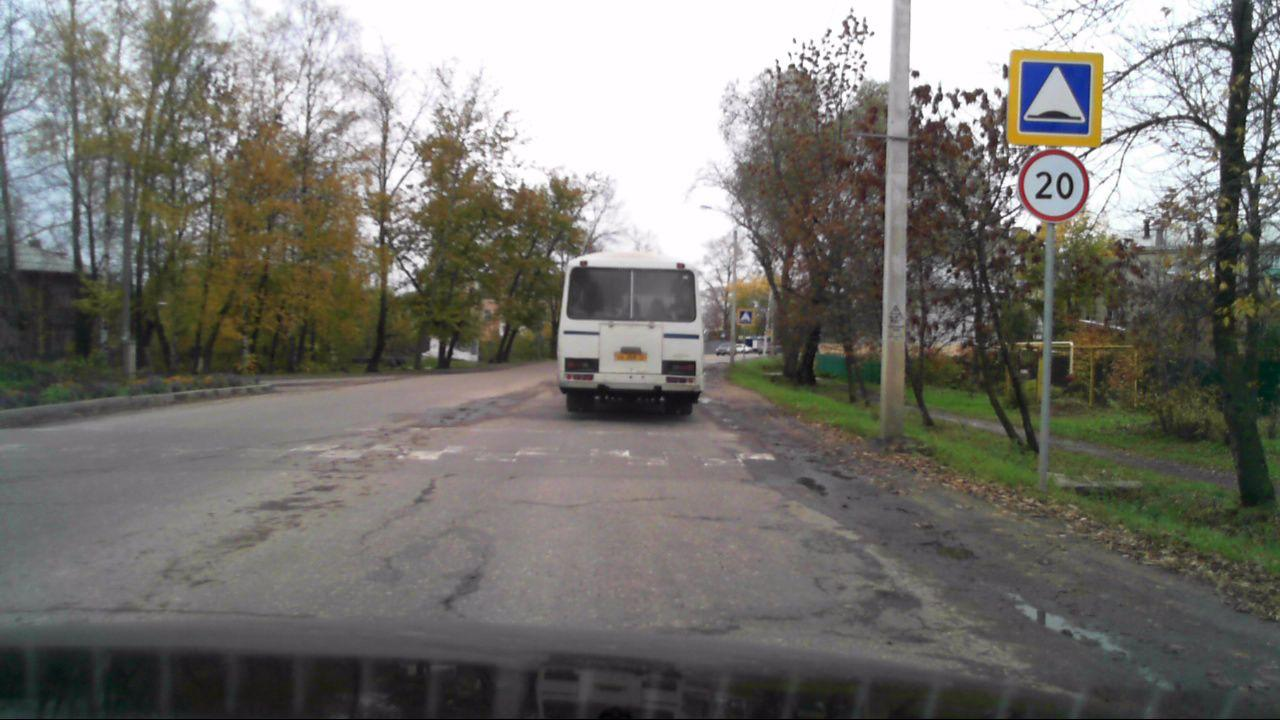3_24: (1016, 148, 1092, 224)
5_20: (1016, 62, 1094, 135), (739, 310, 753, 325)
